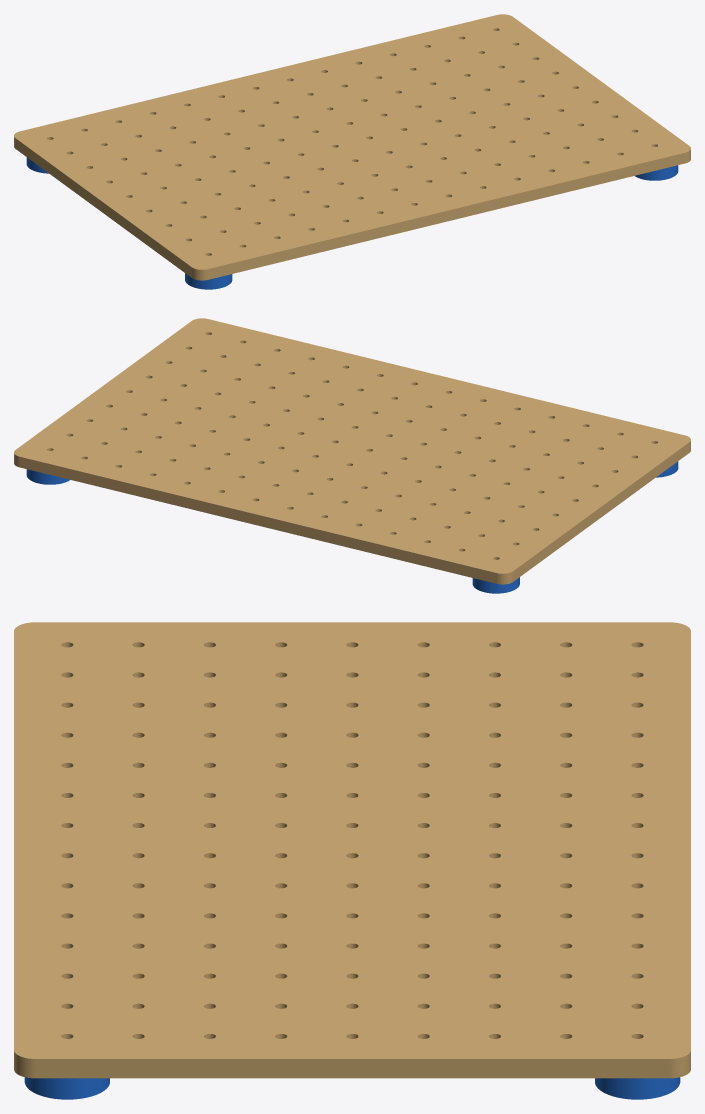
Rendered from m01_baugruppe.glb.
3 renders of one model, top to bottom at view 1: azimuth 30°, elevation 25°; view 2: azimuth 150°, elevation 25°; view 3: azimuth 270°, elevation 25°, orthographic. The views are drawn at different scales.
Visible parts, largest first — view 1: M01-P01_1, M01-P02_1, M01-P03_1; view 2: M01-P01_1, M01-P02_1, M01-P03_2; view 3: M01-P01_1, M01-P02_1, M01-P03_3, M01-P03_4.
Boxes of the visible parts, box(x1,y1,x2,y2) form: M01-P01_1: box(14, 14, 690, 275); M01-P02_1: box(14, 142, 690, 280); M01-P03_1: box(185, 273, 232, 289); M01-P01_1: box(14, 318, 690, 579); M01-P02_1: box(14, 446, 690, 584); M01-P03_2: box(472, 577, 519, 593); M01-P01_1: box(14, 622, 690, 1068); M01-P02_1: box(14, 1061, 690, 1078); M01-P03_3: box(24, 1077, 109, 1099); M01-P03_4: box(595, 1077, 680, 1099).
Size of the model in its own units: 290 by 14 by 190.
